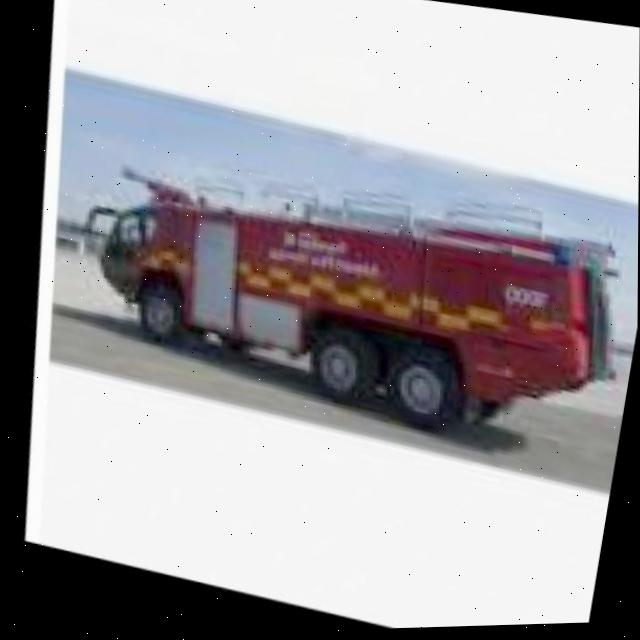emergency: (60, 134, 639, 469)
